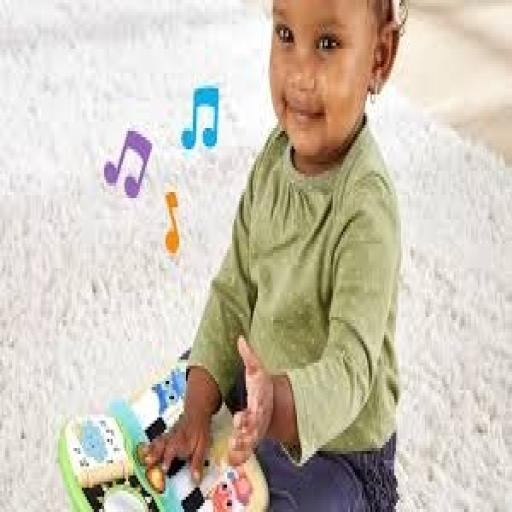baby: (144, 0, 404, 511)
